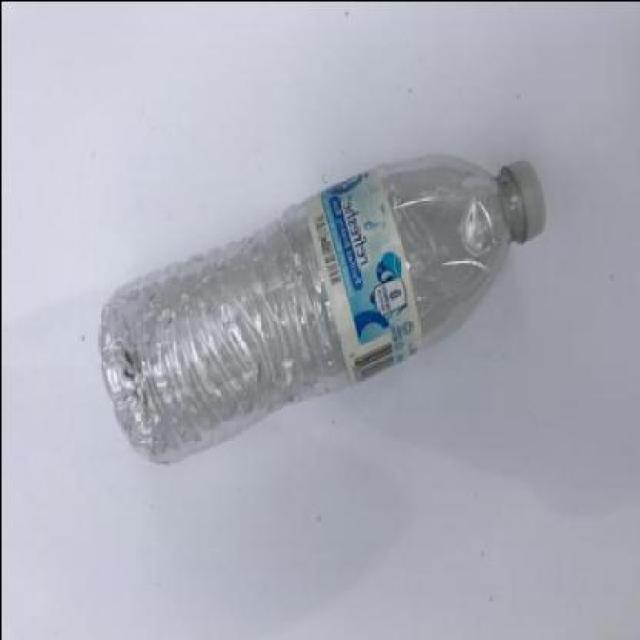PLASTIC: (96, 157, 544, 466), (297, 165, 420, 383), (498, 160, 544, 243)
